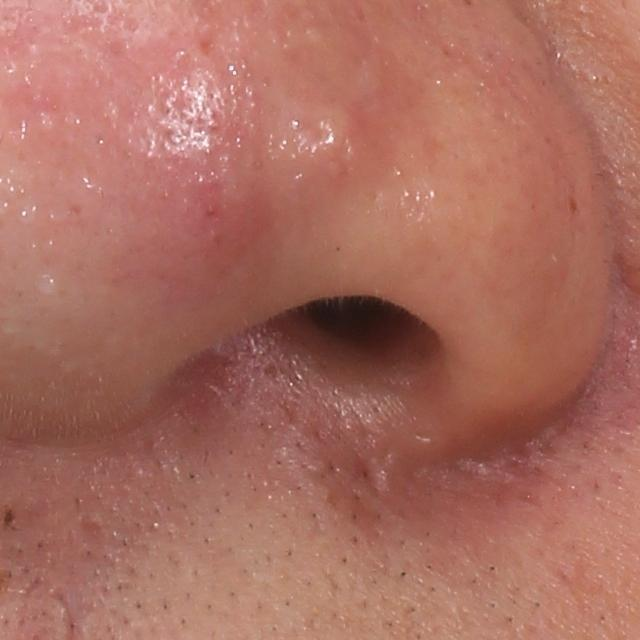atrophic_scar: (348, 450, 389, 499), (52, 588, 87, 637), (79, 514, 108, 544)
nevus: (3, 505, 16, 530)
